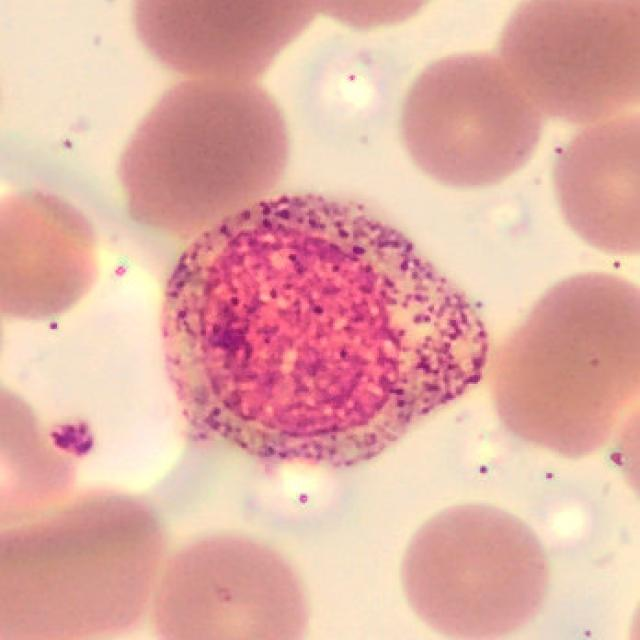Promielocito: (160, 196, 491, 471)
